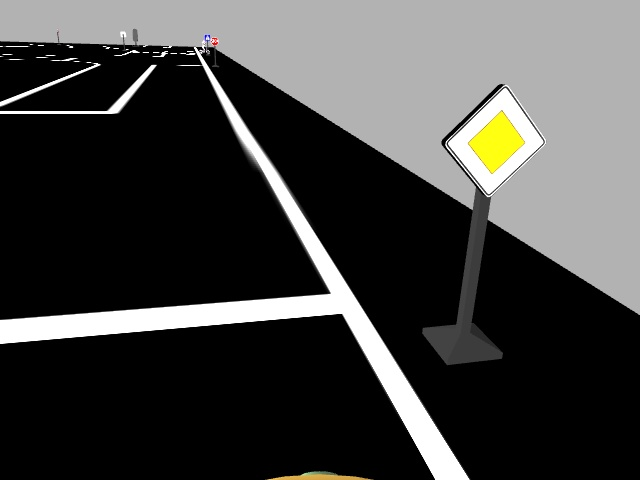Priority: (441, 84, 548, 198)
